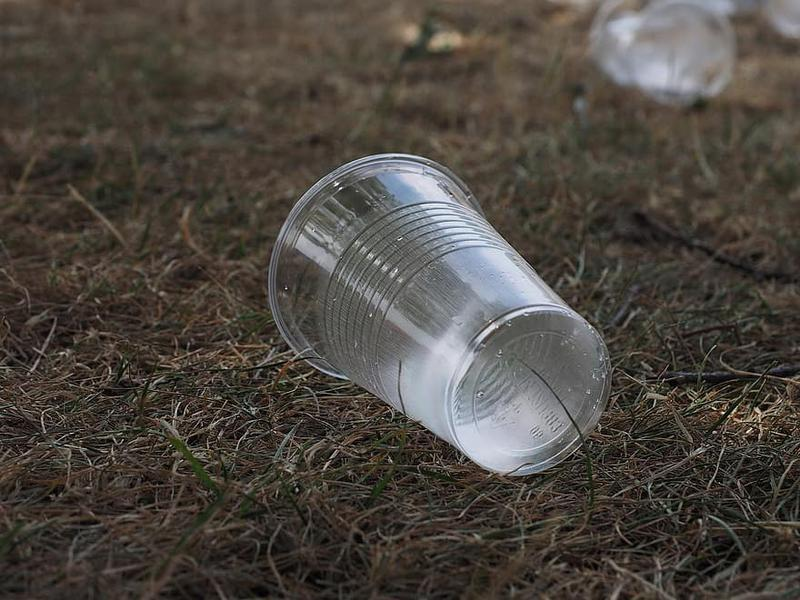cup: (259, 150, 620, 483)
